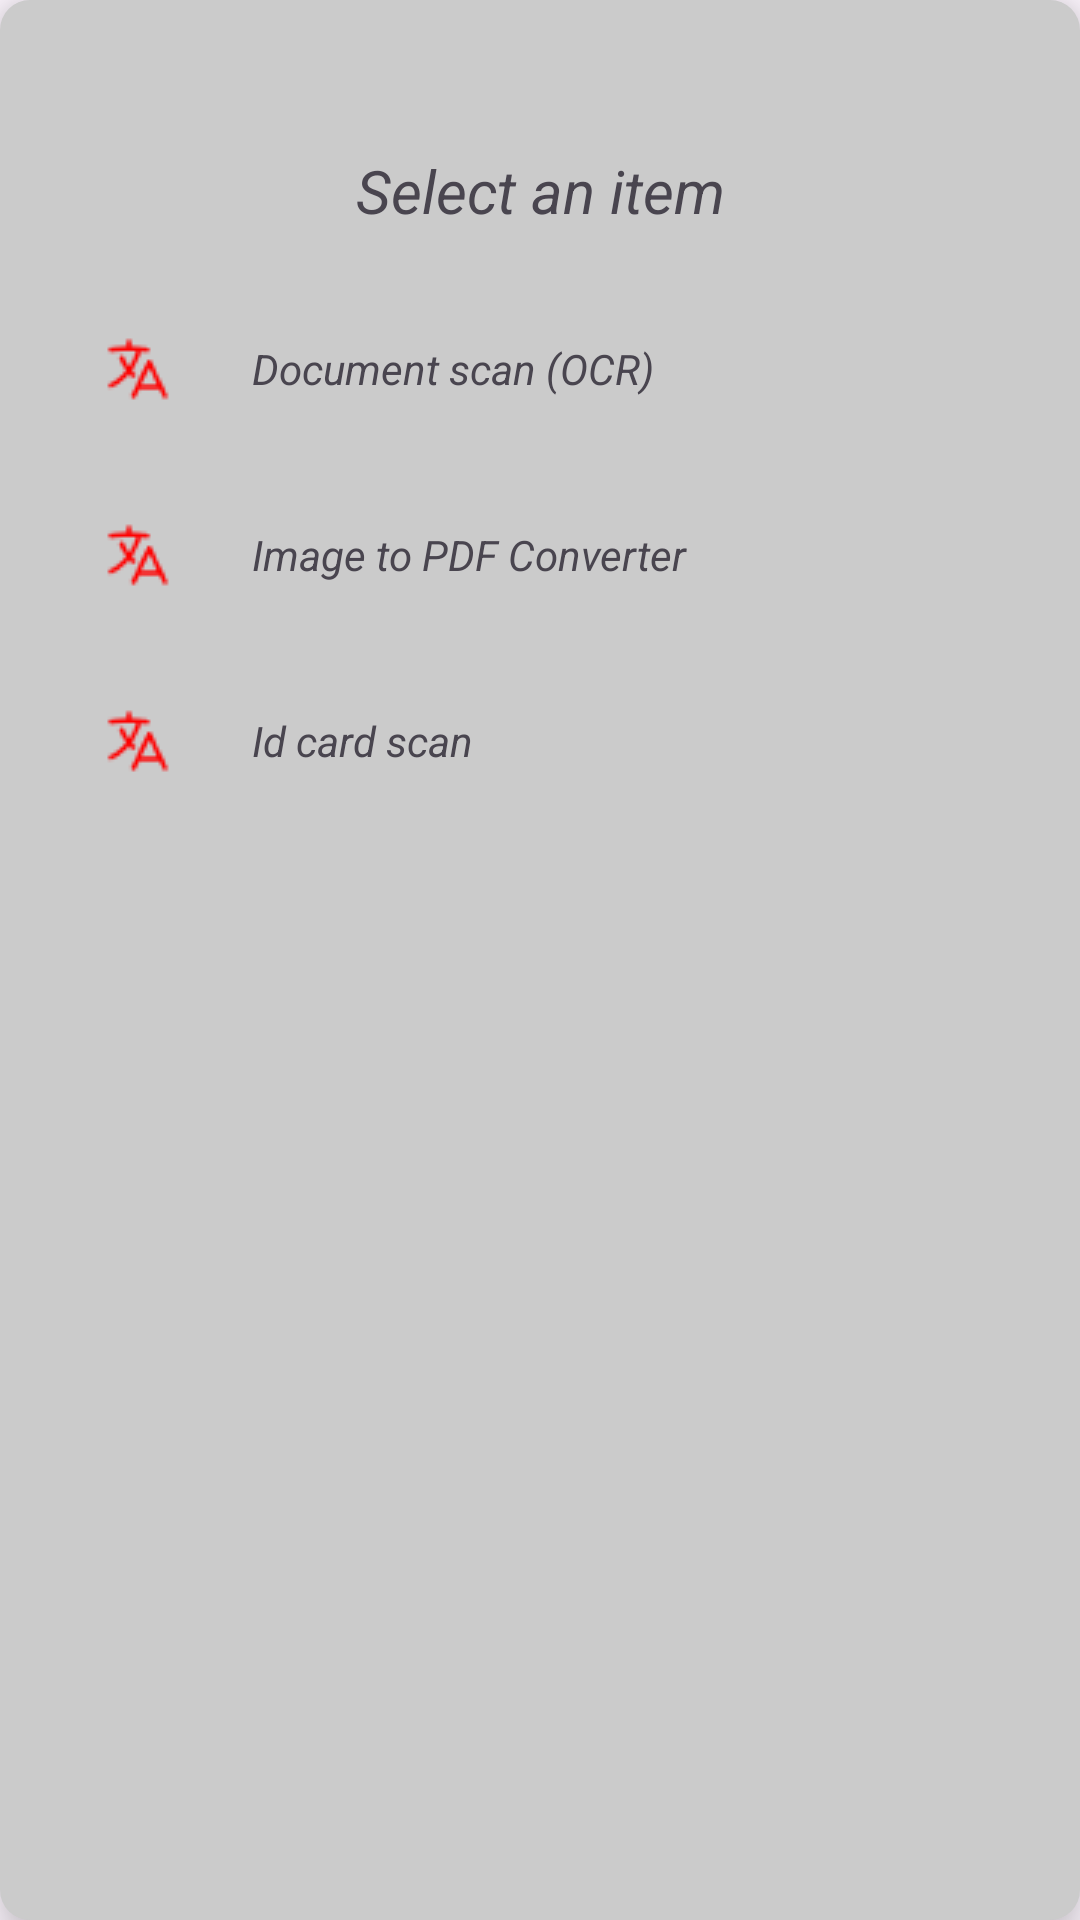

Named icons in this screenshot (1080 × 1920) and their centers, [x,y]:
language: [138,369], [138,555], [138,741]
